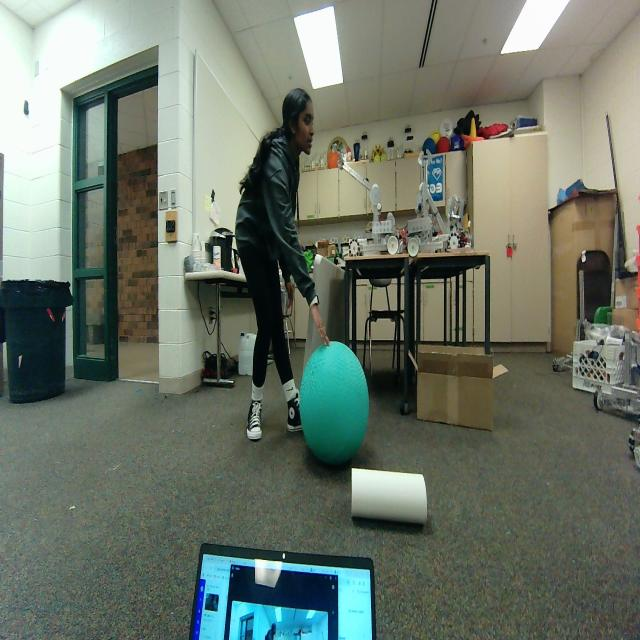algae: (300, 342, 369, 465)
coral: (351, 468, 428, 528)
